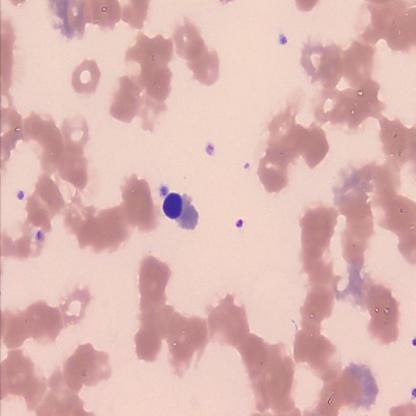NRC: (162, 188, 201, 231)
